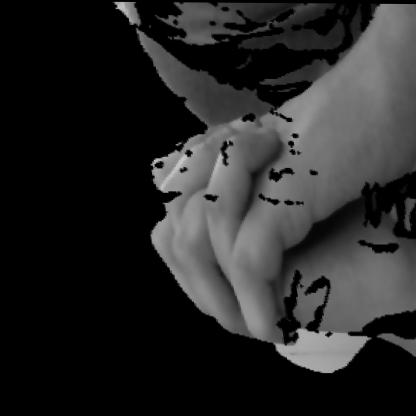prayer: (109, 69, 415, 357)
